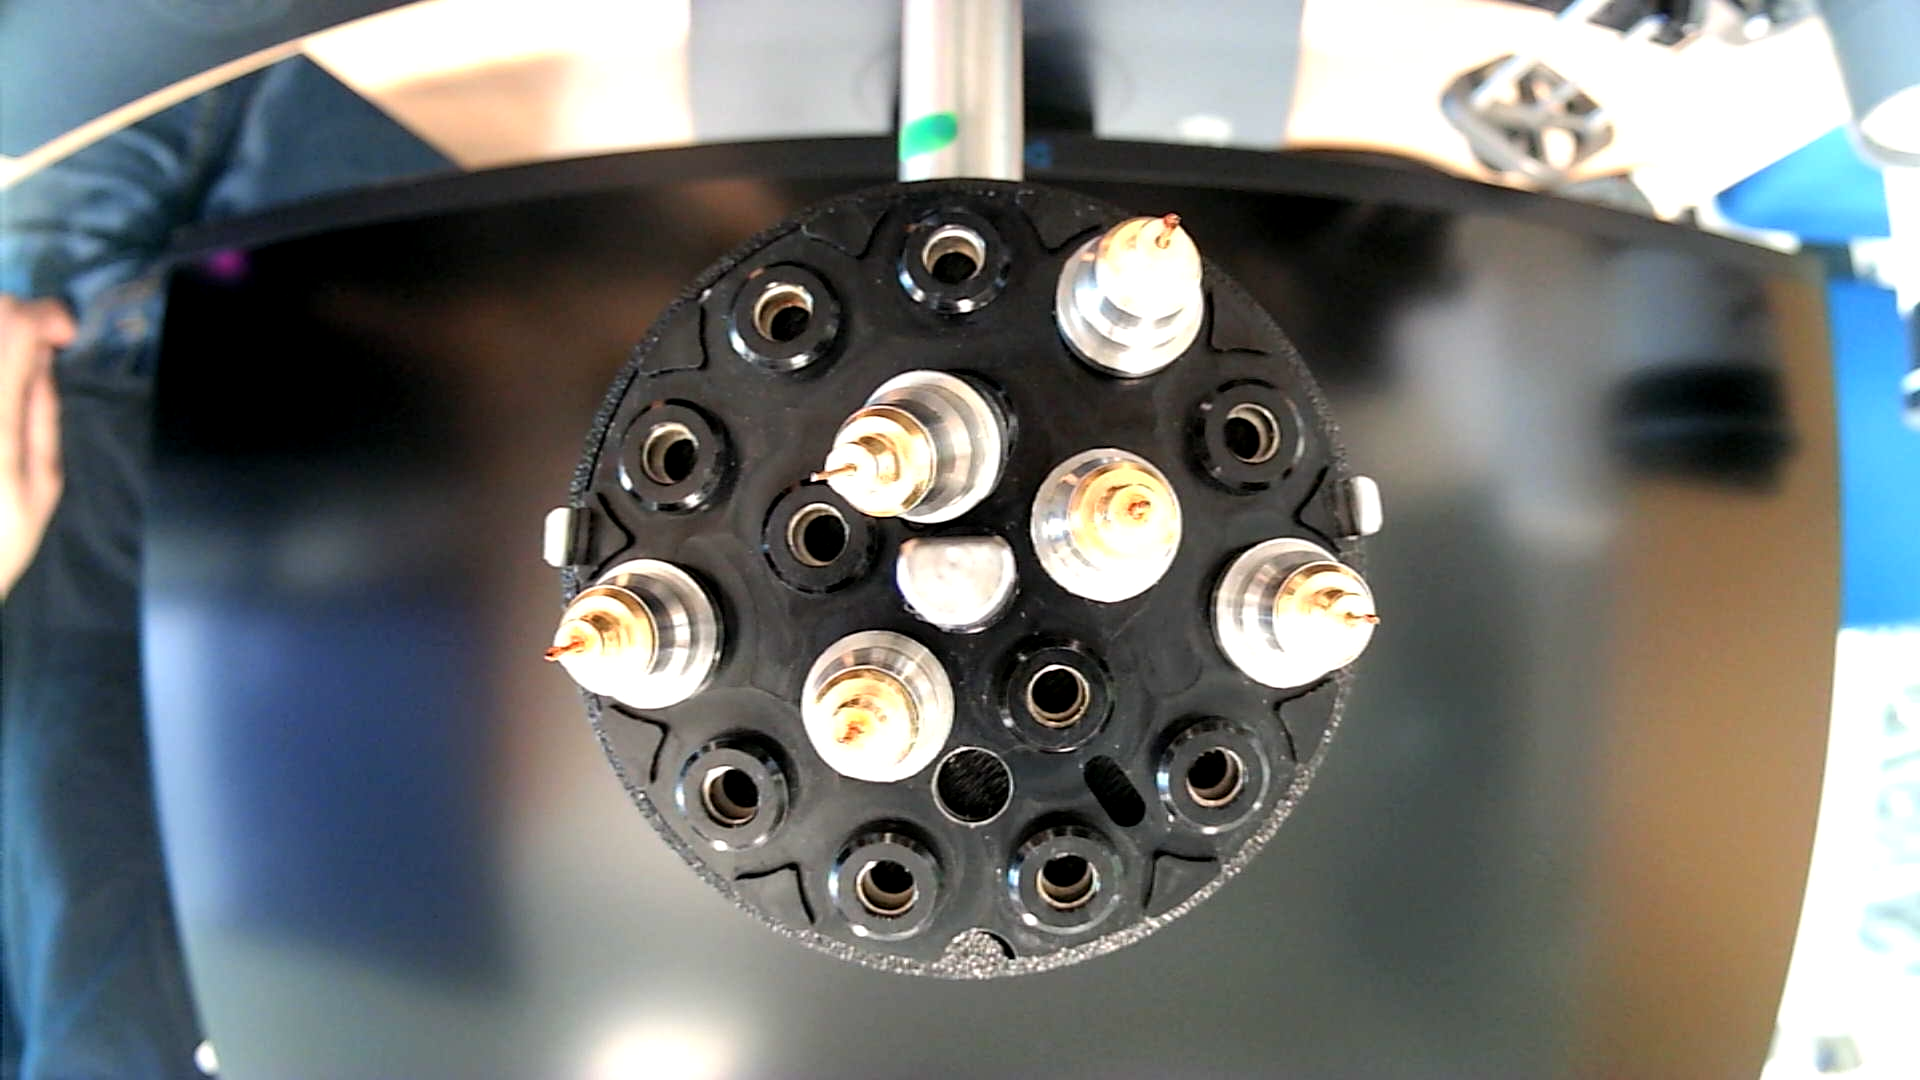empty: (1139, 709, 1279, 843), (669, 725, 802, 855), (984, 632, 1122, 756), (825, 818, 955, 947), (611, 396, 741, 522), (756, 476, 893, 596), (891, 202, 1021, 327), (1183, 373, 1309, 500), (723, 257, 852, 381), (1004, 815, 1130, 938)
hole: (927, 742, 1015, 829)
misplaced: (806, 367, 1021, 526)
pin: (543, 555, 725, 715), (1209, 535, 1381, 692), (1054, 212, 1205, 384), (800, 626, 956, 783), (1030, 448, 1184, 607)
rod: (891, 533, 1025, 644)
